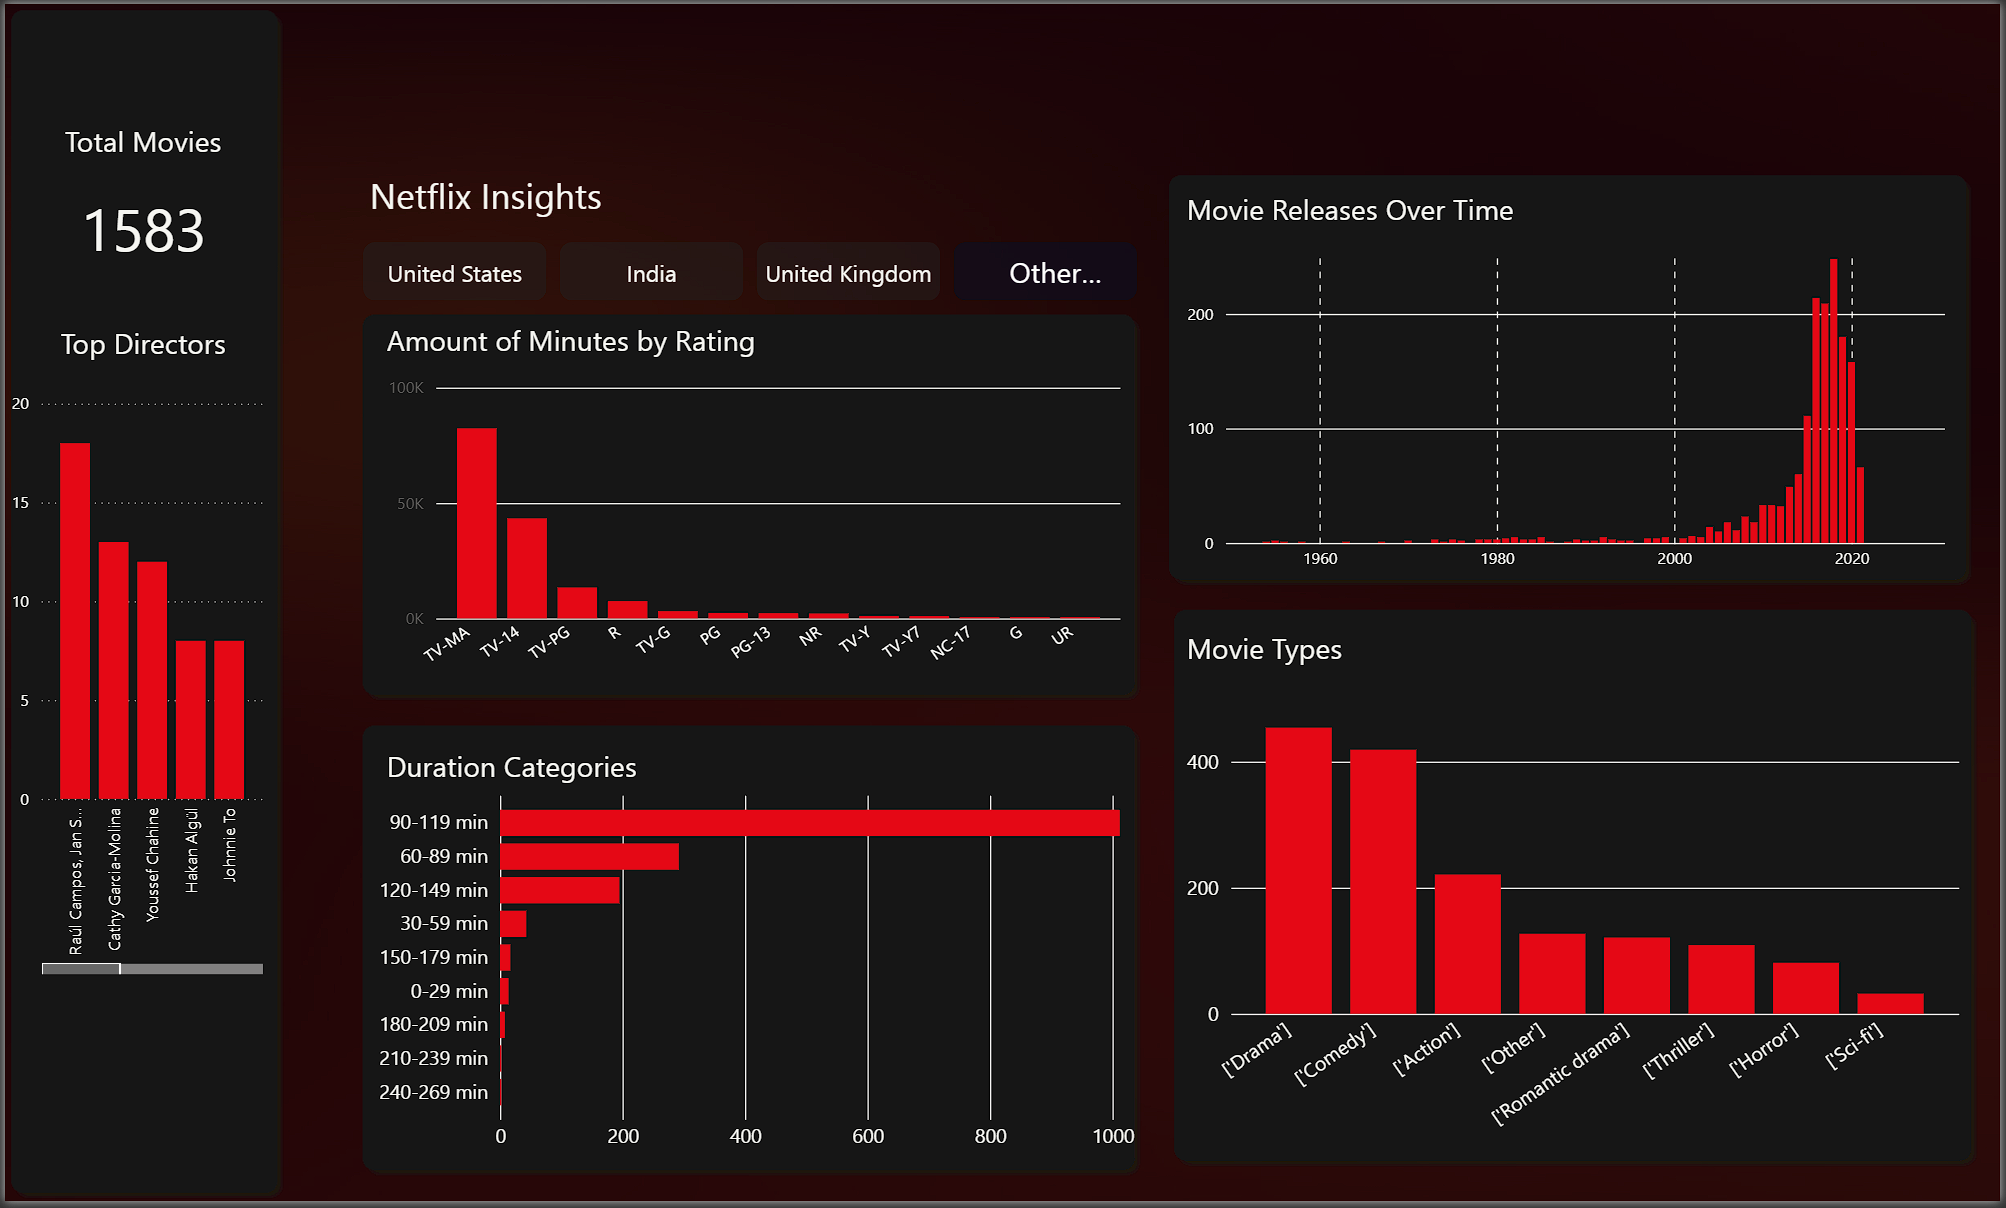

The page's visual inventory and layout, read from the dashboard file:
{"tool":"powerbi","page":{"name":"Other Countries","canvas":[1500,900],"ordinal":3},"visuals":[{"type":"barChart","fields":{"Category":["netflix_cleaned.duration_bin"],"Y":["netflix_cleaned.count"]},"box":[269.4,582.4,630.6,288.9],"z":0},{"type":"textbox","box":[282,553.3,218,41],"z":1000},{"type":"lineStackedColumnComboChart","fields":{"Y":["netflix_cleaned.count"],"Category":["netflix_cleaned.release_year"]},"box":[883.3,175.9,590.7,259.3],"z":2000},{"type":"textbox","box":[883.3,134.3,390.7,41.7],"z":3000},{"type":"clusteredColumnChart","fields":{"Category":["netflix_cleaned.rating"],"Y":["netflix_cleaned.duration_minutes"]},"box":[282.4,274.1,561.1,243.5],"z":4000},{"type":"textbox","box":[282,232.8,390.2,41],"z":5000},{"type":"pageNavigator","box":[269.4,178.7,584.3,44.4],"z":7000},{"type":"card","fields":{"Values":["netflix_cleaned.count"]},"box":[9.3,134.3,189.8,66.7],"z":8000},{"type":"clusteredColumnChart","fields":{"Category":["netflix_cleaned.broad_genres"],"Y":["netflix_cleaned.count"]},"box":[883.3,508.3,590.7,363],"z":10000},{"type":"textbox","box":[883.6,464.5,180,43.6],"z":11000},{"type":"textbox","box":[9.3,83.3,189.8,50.9],"z":12000},{"type":"textbox","box":[269.1,120,320,56.4],"z":12003},{"type":"textbox","box":[9.1,235.5,190,50.9],"z":12004},{"type":"lineStackedColumnComboChart","fields":{"Category":["netflix_cleaned.director"],"Y":["netflix_cleaned.count"]},"box":[0,286.4,199.1,448.2],"z":12005}]}

Visuals, with their boxes in screenshot pixels (x1, y1, x2, y2), scaled from the page's 1500x900 canvas onto the 2006x1208 screenshot:
barChart - netflix_cleaned.duration_bin x netflix_cleaned.count: 360,782,1204,1169
textbox: 377,743,669,798
lineStackedColumnComboChart - netflix_cleaned.count x netflix_cleaned.release_year: 1181,236,1971,584
textbox: 1181,180,1704,236
clusteredColumnChart - netflix_cleaned.rating x netflix_cleaned.duration_minutes: 378,368,1128,695
textbox: 377,312,899,368
pageNavigator: 360,240,1142,299
card - netflix_cleaned.count: 12,180,266,270
clusteredColumnChart - netflix_cleaned.broad_genres x netflix_cleaned.count: 1181,682,1971,1169
textbox: 1182,623,1422,682
textbox: 12,112,266,180
textbox: 360,161,788,237
textbox: 12,316,266,384
lineStackedColumnComboChart - netflix_cleaned.director x netflix_cleaned.count: 0,384,266,986
